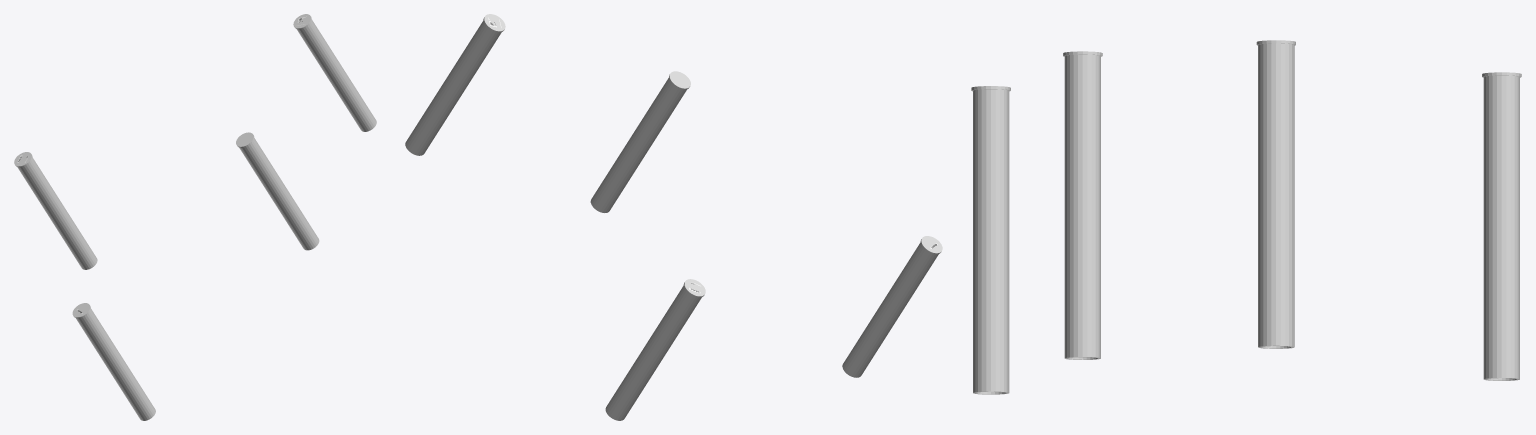
Rendered from O2_paipu_tunneru.dae.
3 views of the same model, side by side, from view 1: azimuth 30°, elevation 25°; view 2: azimuth 150°, elevation 25°; view 3: azimuth 270°, elevation 25° (orthographic). The views are drawn at different scales.
Parts seen in each view (by area): view 1: Group3, Group4, Group6, Group5; view 2: Group3, Group4, Group5, Group6; view 3: Group4, Group5, Group6, Group3.
Part boxes in pixels (box(x1,y1,x2,y2)): Group3: box(236, 132, 319, 250); Group4: box(293, 14, 376, 131); Group6: box(72, 303, 155, 420); Group5: box(14, 152, 97, 269); Group3: box(590, 71, 690, 212); Group4: box(405, 14, 505, 155); Group5: box(605, 279, 705, 420); Group6: box(842, 236, 942, 377); Group4: box(1256, 40, 1295, 348); Group5: box(1482, 72, 1521, 380); Group6: box(971, 86, 1010, 394); Group3: box(1063, 51, 1102, 359).
Bounding box in the file's own units: 0.2837 × 0.1813 × 0.214.
2 materials, 1 textured.
